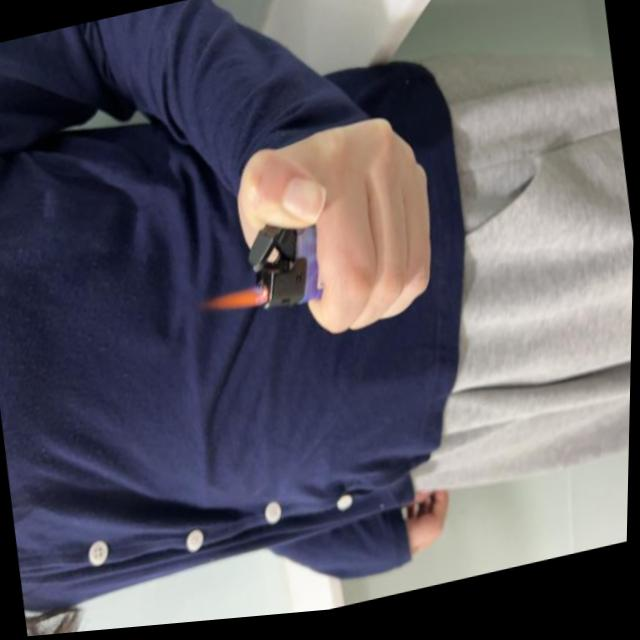Fire: (202, 289, 270, 323)
